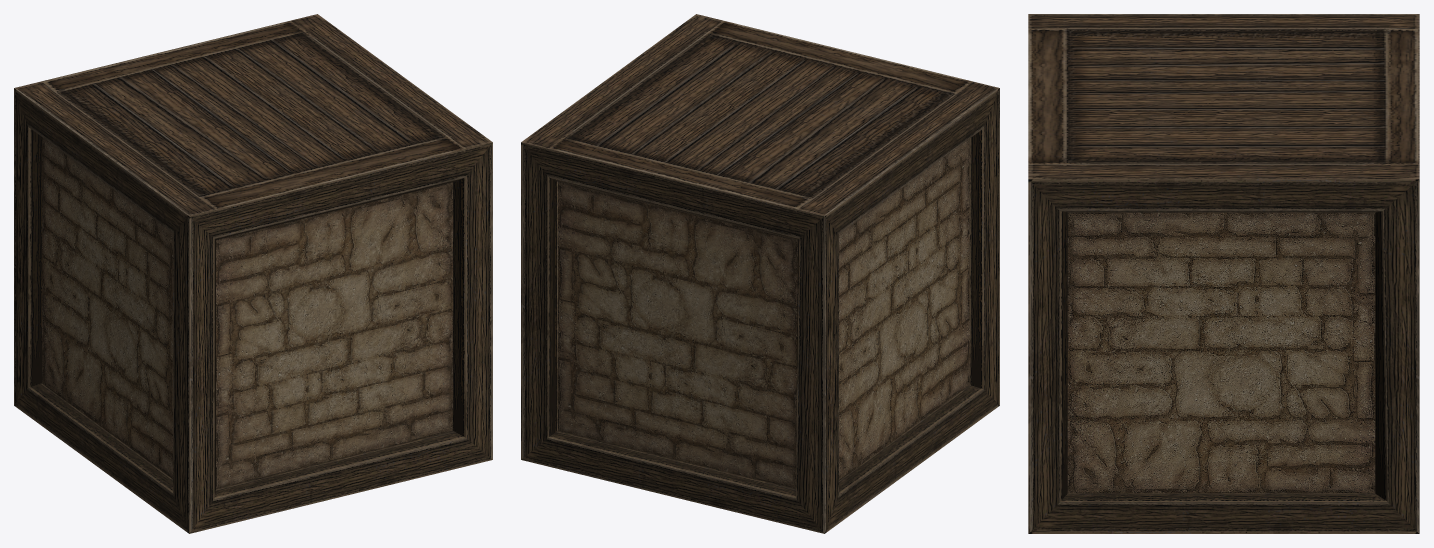
Rendered from House_4X4_05b.fbx.
3 views of the same model, side by side, from view 1: azimuth 30°, elevation 25°; view 2: azimuth 150°, elevation 25°; view 3: azimuth 270°, elevation 25° (orthographic). The views are drawn at different scales.
Visible parts, largest first — view 1: House_4X4_05b; view 2: House_4X4_05b; view 3: House_4X4_05b.
Part boxes in pixels (x1=…): House_4X4_05b: x1=14, y1=14, x2=492, y2=533; House_4X4_05b: x1=521, y1=14, x2=999, y2=533; House_4X4_05b: x1=1028, y1=14, x2=1419, y2=533.
Bounding box in the file's own units: 4 × 4 × 4.
